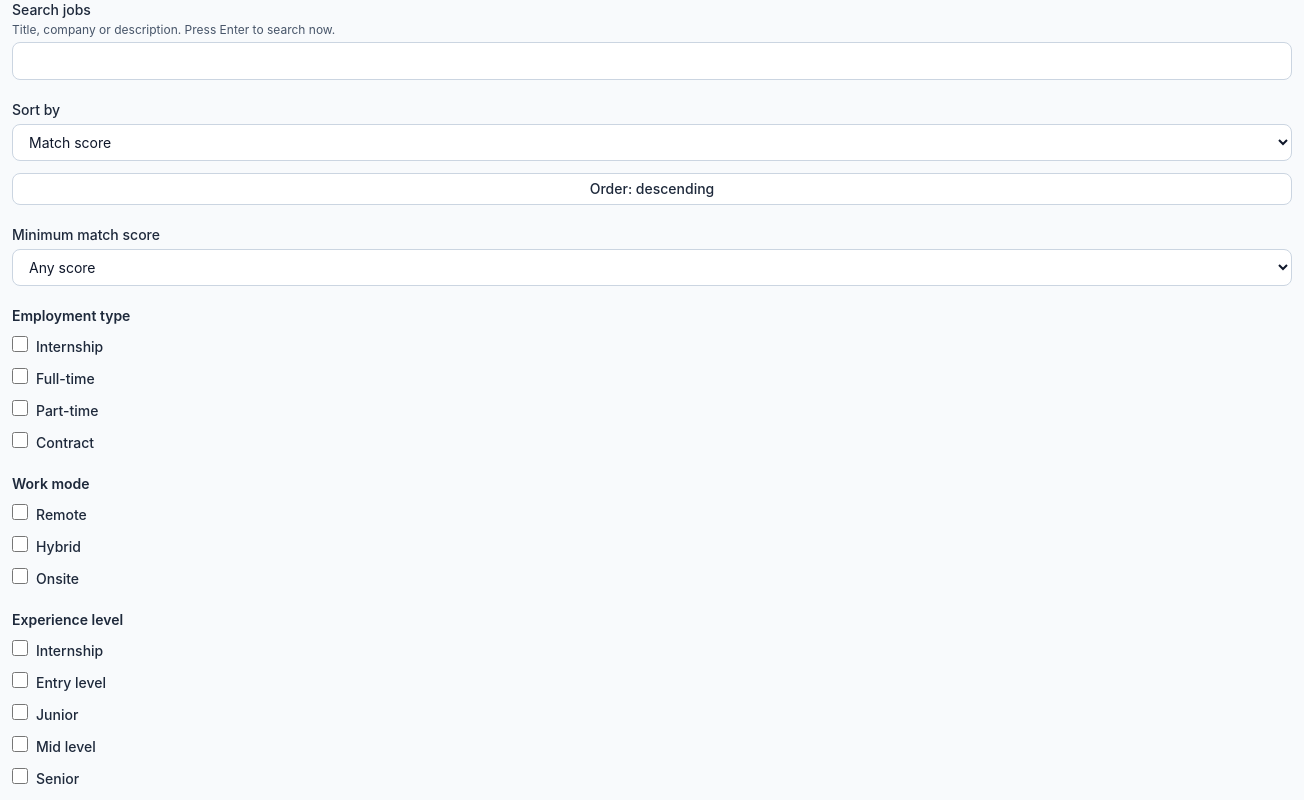
Test case: JobFilters › adds repeated params for checked work modes
Click the checkbox labelled "Remote". click: (20, 512)
box: top-left (12, 504), bottom-right (28, 520)
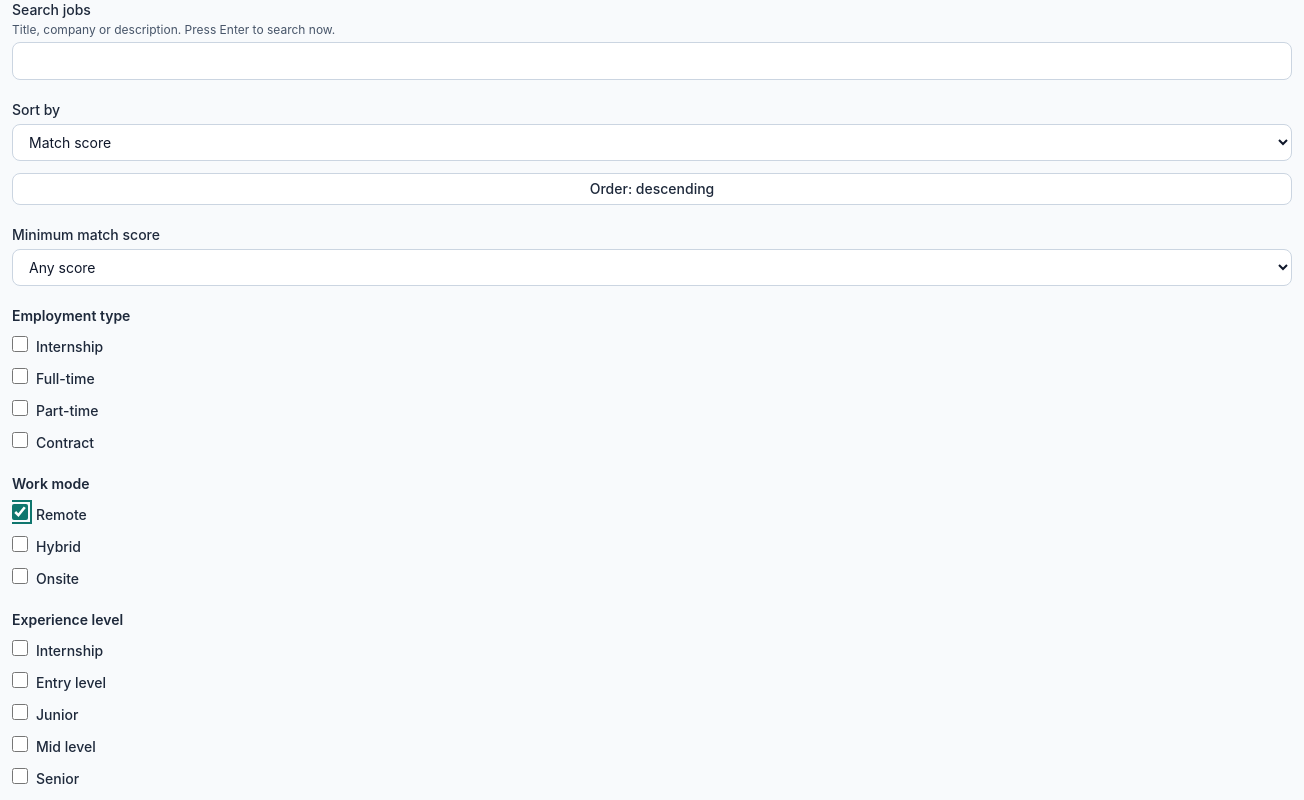
Click the checkbox labelled "Onsite". click: (20, 576)
box: top-left (12, 568), bottom-right (28, 584)
(page scrolled)
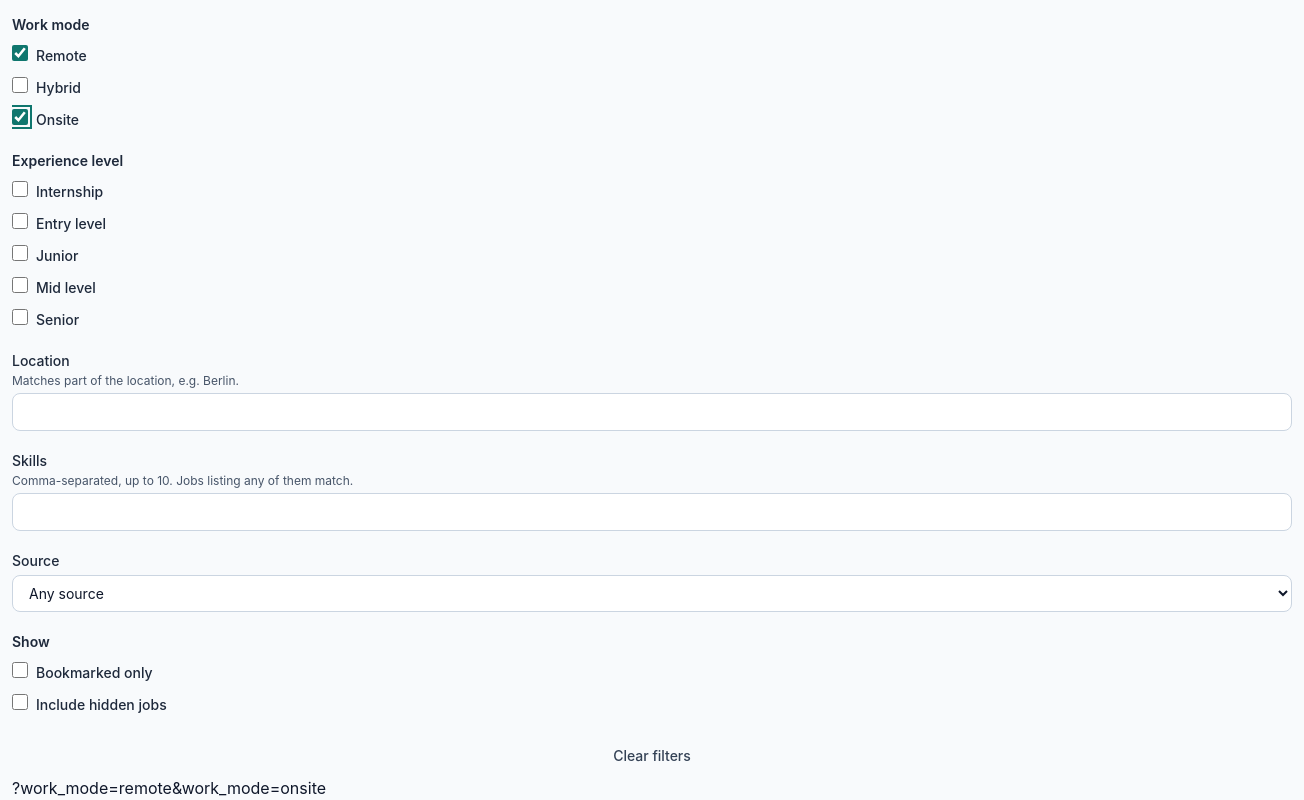
Expected: the text named "Current search" reads "?work_mode=remote&work_mode=onsite", top-left (12, 778), bottom-right (326, 798)
